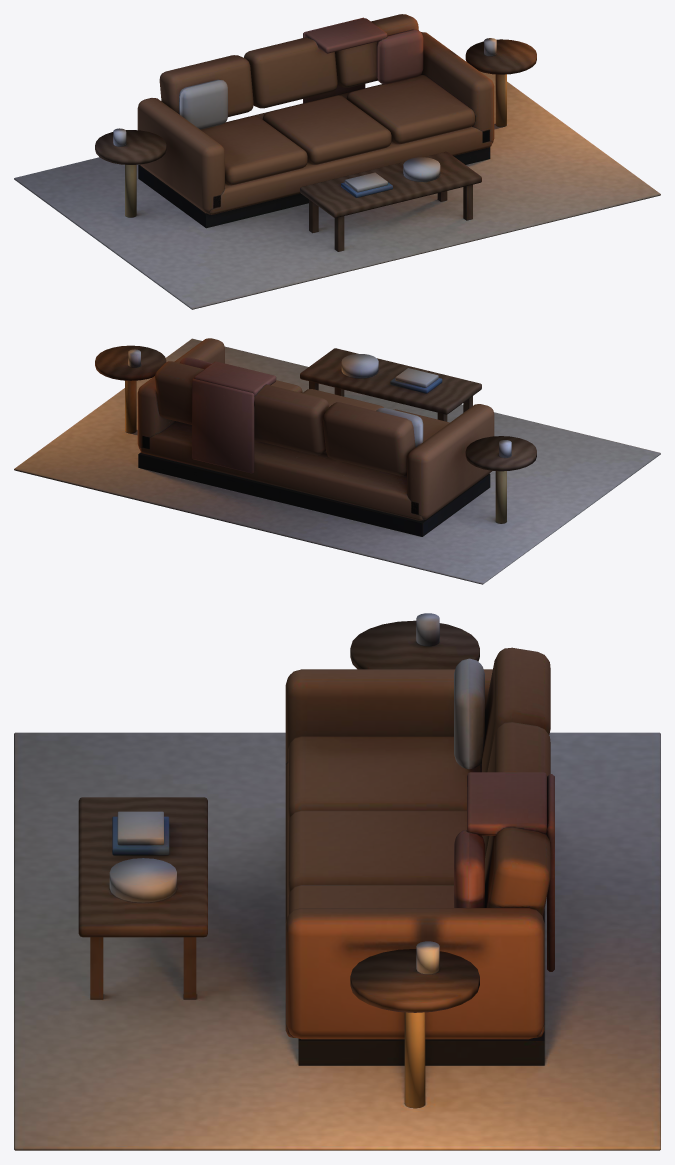
Rendered from cabin_sofa.glb.
3 views of the same model, one above another, from view 1: azimuth 30°, elevation 25°; view 2: azimuth 150°, elevation 25°; view 3: azimuth 270°, elevation 25° (orthographic). The views are drawn at different scales.
Visible parts, largest first — view 1: sofa; view 2: sofa; view 3: sofa.
Boxes of the visible parts, left/top/right/bottom form: sofa: left=14, top=14, right=660, bottom=309; sofa: left=14, top=338, right=660, bottom=584; sofa: left=14, top=613, right=660, bottom=1150.
Bounding box in the file's own units: 3.8 × 0.83 × 2.5.
1 material, 1 textured.
